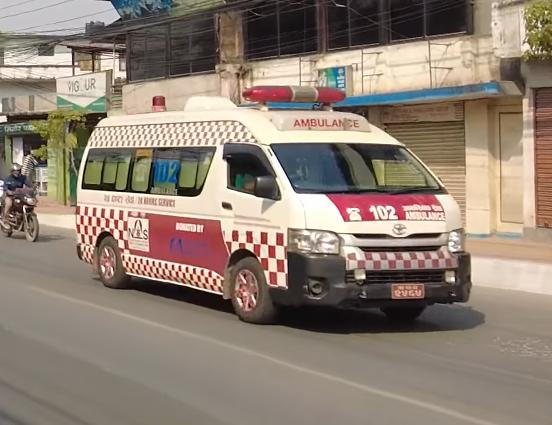ambulance: (70, 77, 474, 331)
